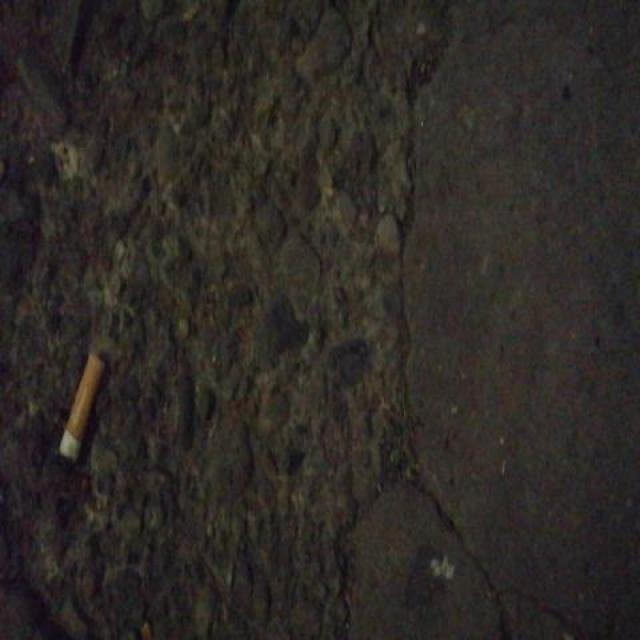non-organic waste: (53, 343, 116, 465)
